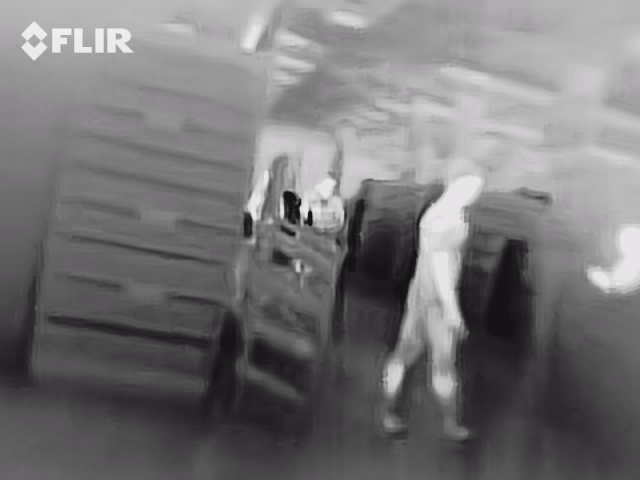head: (443, 160, 487, 207), (314, 176, 336, 201)
